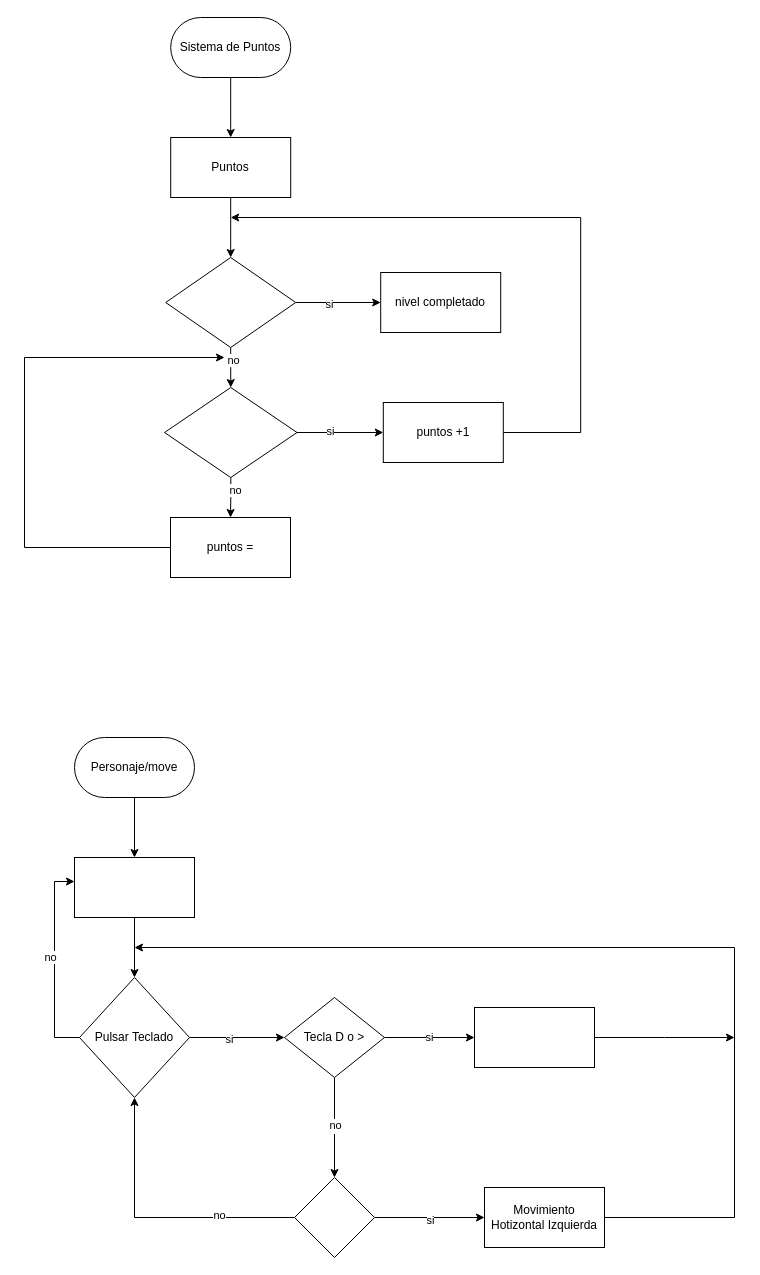
This 760x1275 diagram has some shape labels left out. The shapes that lost their labels are listed below. From the top down, each one's box as (x1, y1, x2, y2) in pixels, then its label:
(165, 256, 296, 348): Puntos igual = 20
(164, 386, 297, 478): personaje toco objeto
(74, 856, 194, 918): Pocicion estatica
(474, 1006, 594, 1068): Movimiento horizontal Derecha
(294, 1176, 374, 1258): Tecla A o <
